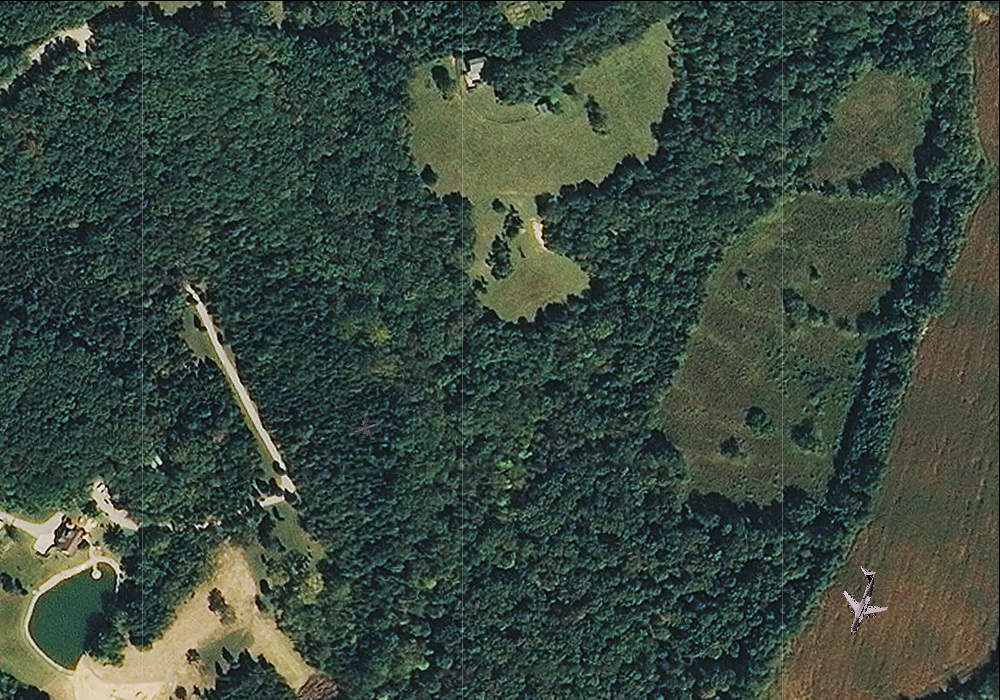plane: (821, 559, 902, 645), (349, 409, 387, 446)
